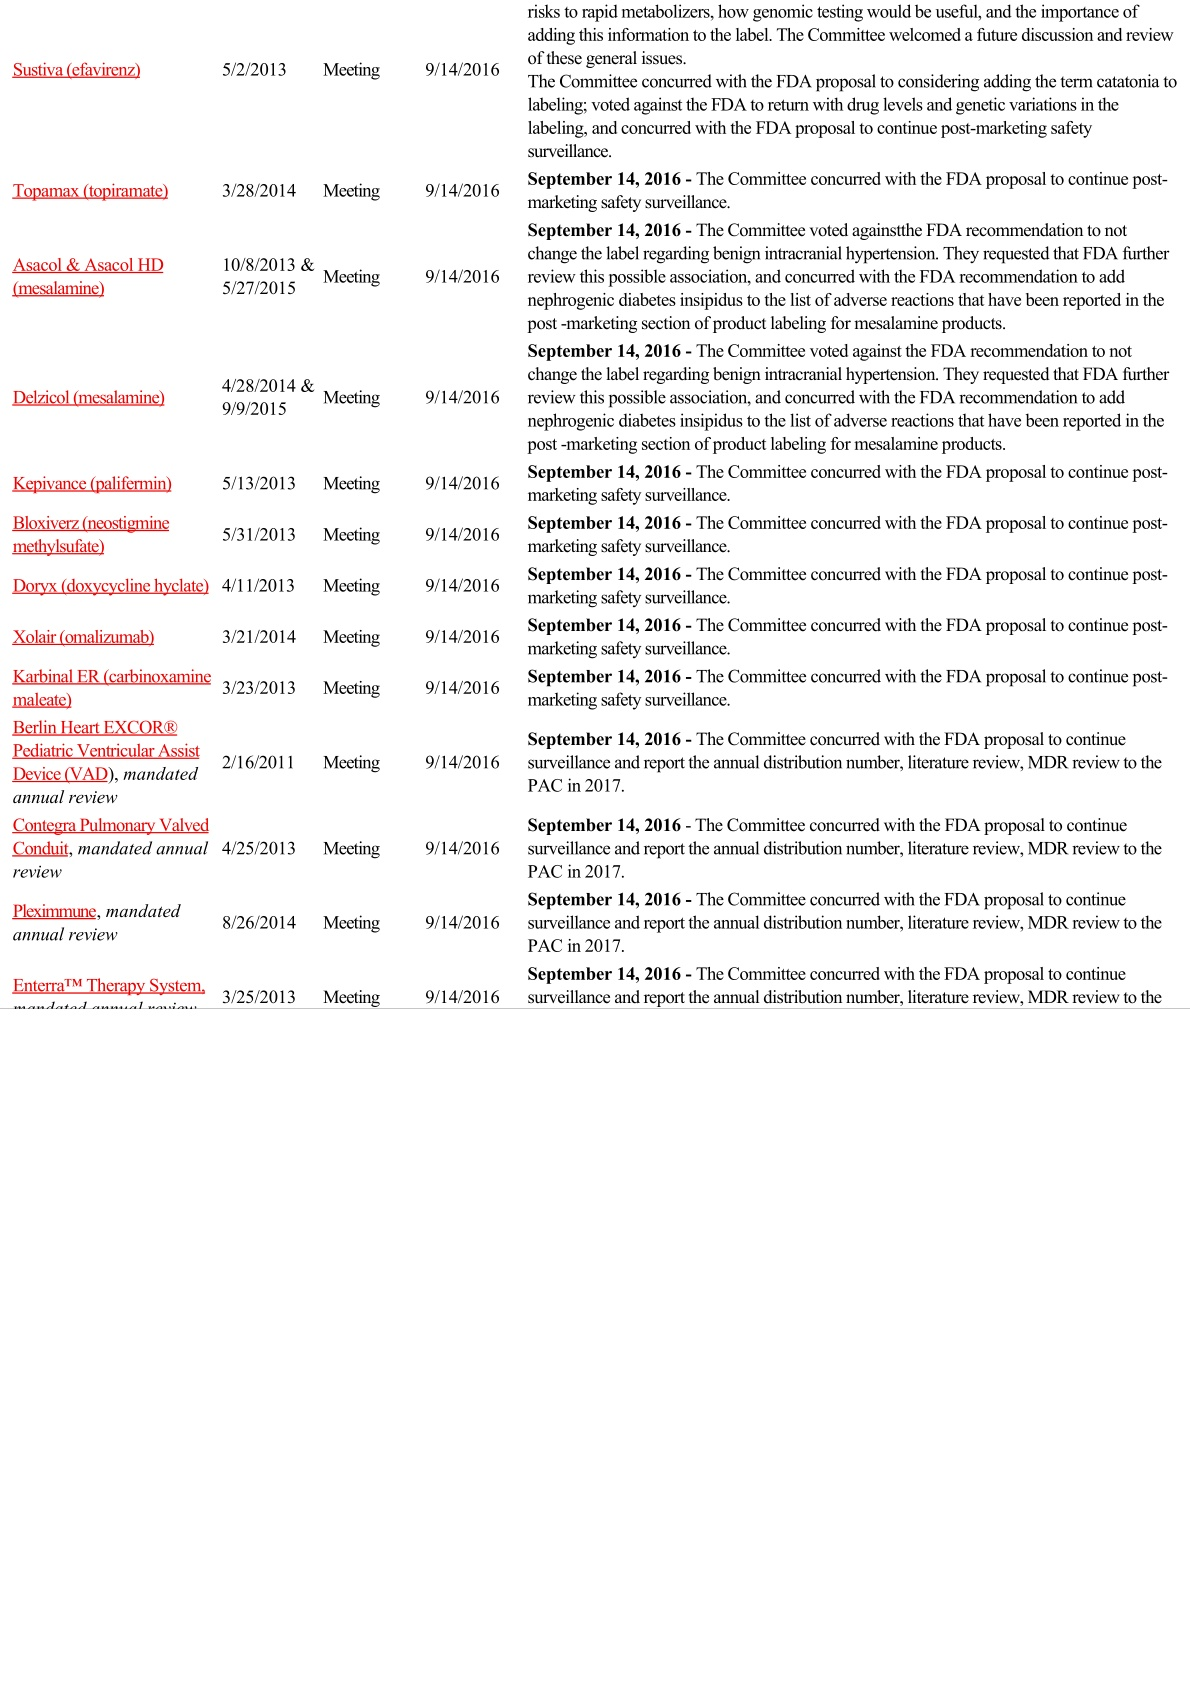nolines: (1, 1, 1190, 1006)
